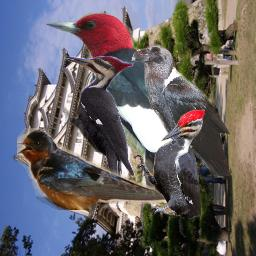Crow: (131, 43, 232, 176)
Swallow: (17, 128, 196, 210)
Woodpecker: (43, 12, 199, 217), (63, 56, 135, 195), (133, 109, 205, 220)
